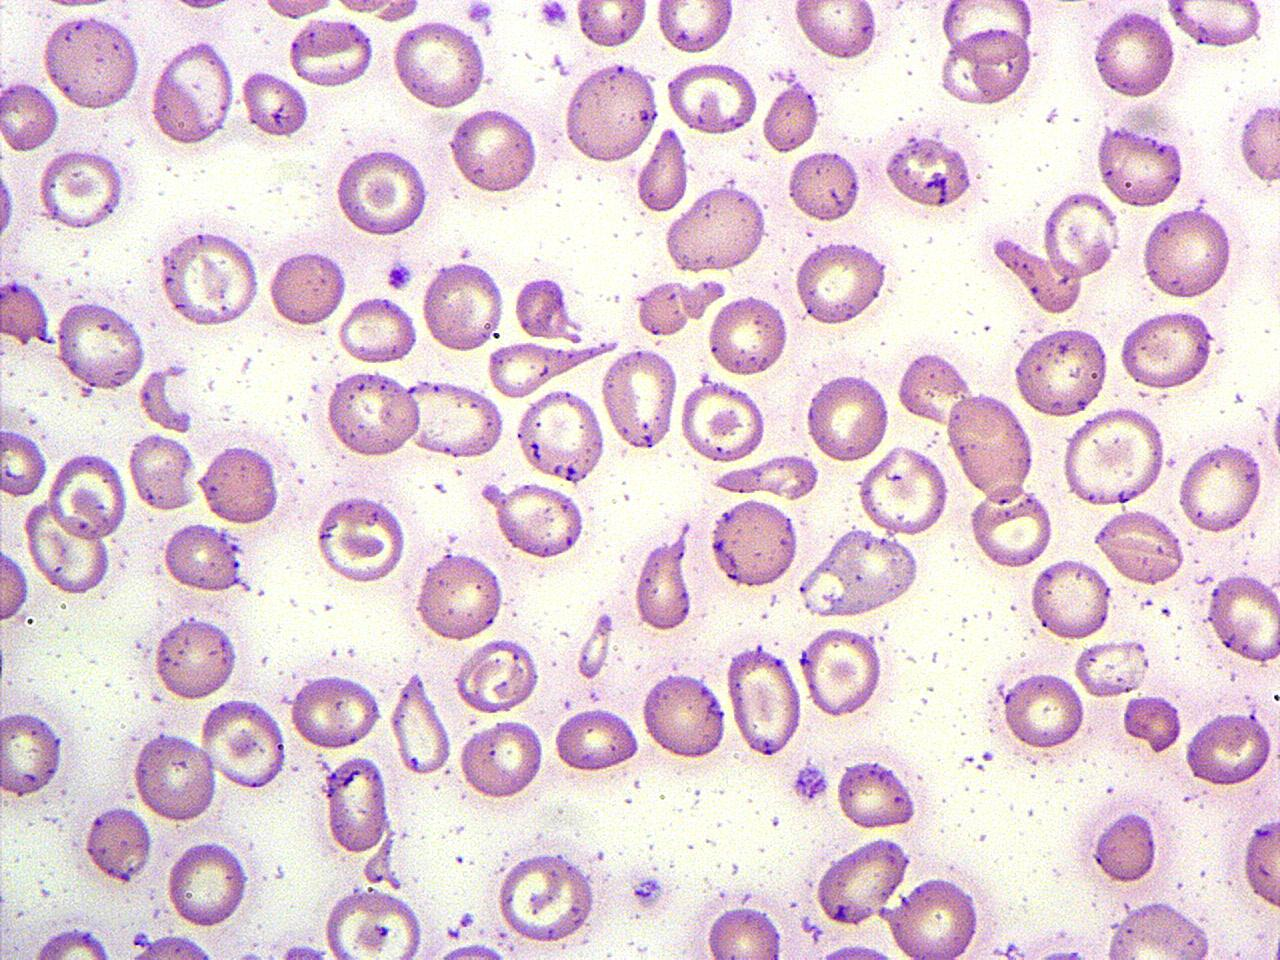Platelets: (790, 759, 830, 806), (536, 0, 570, 28), (386, 262, 414, 291), (464, 1, 496, 24), (457, 912, 475, 928), (549, 52, 563, 70)
RBC: (1061, 404, 1167, 508), (158, 226, 262, 329), (563, 59, 660, 165), (41, 11, 142, 112), (494, 849, 598, 947), (944, 389, 1037, 497), (662, 184, 768, 276), (149, 36, 236, 148), (1139, 202, 1235, 302), (1010, 324, 1110, 419), (815, 526, 925, 612), (388, 19, 489, 111), (856, 442, 950, 538), (813, 834, 911, 928), (335, 145, 431, 239), (706, 496, 800, 591), (323, 368, 420, 460), (514, 386, 606, 483), (22, 497, 113, 595), (1175, 438, 1265, 536), (414, 548, 506, 643), (1116, 306, 1215, 393), (600, 344, 680, 452), (1093, 116, 1185, 210), (313, 492, 406, 586), (726, 646, 803, 758), (792, 237, 889, 326), (53, 299, 147, 390), (1090, 5, 1178, 101), (887, 872, 983, 960), (402, 379, 506, 460), (640, 668, 728, 762), (449, 104, 539, 195), (677, 376, 768, 466), (199, 698, 287, 790), (131, 730, 218, 824), (420, 258, 506, 352), (798, 624, 882, 720), (321, 884, 426, 960), (804, 371, 890, 464), (936, 28, 1035, 107), (165, 838, 250, 930), (968, 484, 1055, 572), (288, 671, 382, 752), (36, 146, 125, 232), (1028, 554, 1114, 642), (1182, 708, 1276, 788), (882, 132, 976, 212), (153, 614, 238, 702), (459, 716, 544, 802), (706, 292, 790, 379), (662, 59, 758, 136), (495, 480, 587, 560), (197, 440, 280, 526), (47, 450, 128, 539), (1041, 189, 1119, 281), (1002, 668, 1086, 752), (1091, 510, 1185, 586), (322, 752, 391, 855), (387, 670, 452, 777), (1207, 570, 1279, 666), (454, 638, 540, 716), (1103, 899, 1213, 960), (267, 246, 348, 329), (895, 348, 978, 428), (632, 528, 693, 633), (286, 16, 374, 89), (834, 756, 916, 832), (552, 704, 640, 774), (161, 519, 244, 594), (0, 706, 65, 800), (128, 429, 198, 513), (940, 0, 1036, 62), (786, 146, 862, 224), (337, 293, 418, 365), (83, 803, 153, 884), (1091, 806, 1159, 886), (239, 66, 310, 140), (792, 0, 879, 62), (709, 454, 823, 500), (1165, 0, 1265, 52), (0, 74, 61, 156), (635, 122, 689, 213), (703, 902, 784, 960), (653, 0, 735, 56), (1073, 638, 1149, 699), (761, 81, 821, 154), (486, 341, 560, 399), (0, 274, 52, 352), (1237, 95, 1280, 189), (1240, 814, 1280, 914), (574, 0, 650, 51), (1122, 694, 1182, 756), (512, 273, 570, 338), (0, 424, 50, 498), (634, 278, 692, 337), (25, 926, 119, 960), (118, 932, 227, 960), (577, 611, 616, 683), (0, 536, 30, 628), (256, 0, 346, 22)
WBC: (794, 524, 924, 620)
